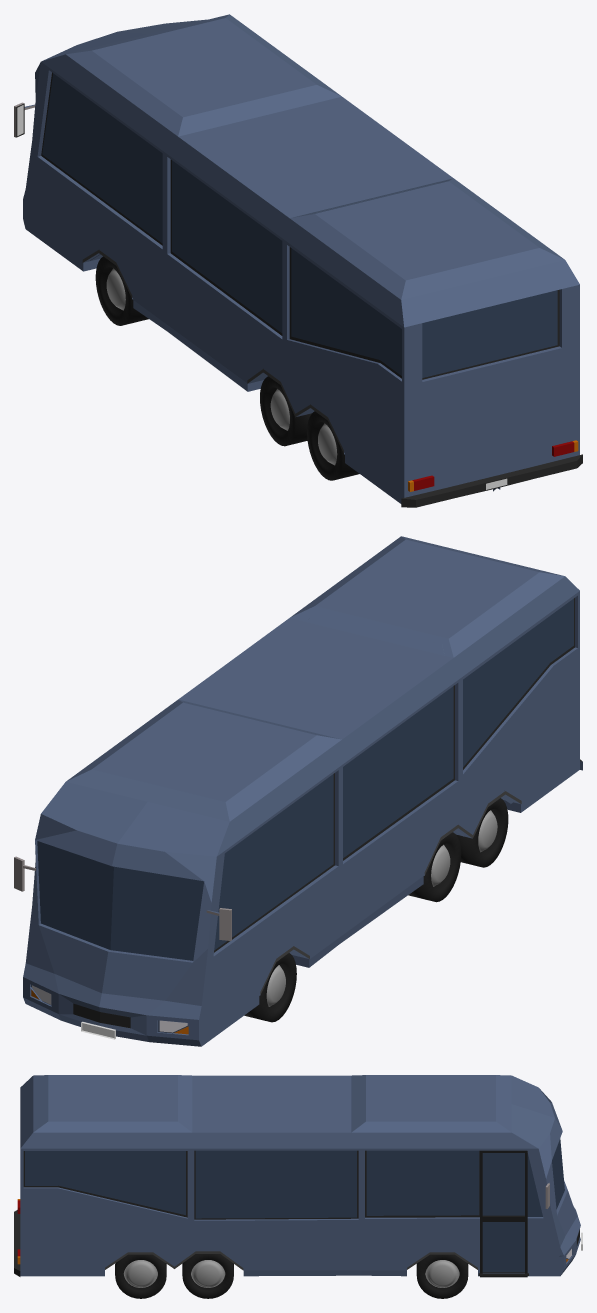
File: bus.fbx
The picture shows the model from 3 angles, top to bottom: view 1: azimuth 30°, elevation 25°; view 2: azimuth 150°, elevation 25°; view 3: azimuth 270°, elevation 25°; orthographic projection. The views are drawn at different scales.
Parts seen in each view (by area): view 1: Cylinder.004; view 2: Cylinder.004; view 3: Cylinder.004.
Boxes of the visible parts, x1,y1,x2,y2 form: Cylinder.004: (14, 14, 582, 507); Cylinder.004: (14, 536, 582, 1046); Cylinder.004: (14, 1075, 582, 1298).
Bounding box in the file's own units: 295 × 313 × 938.
